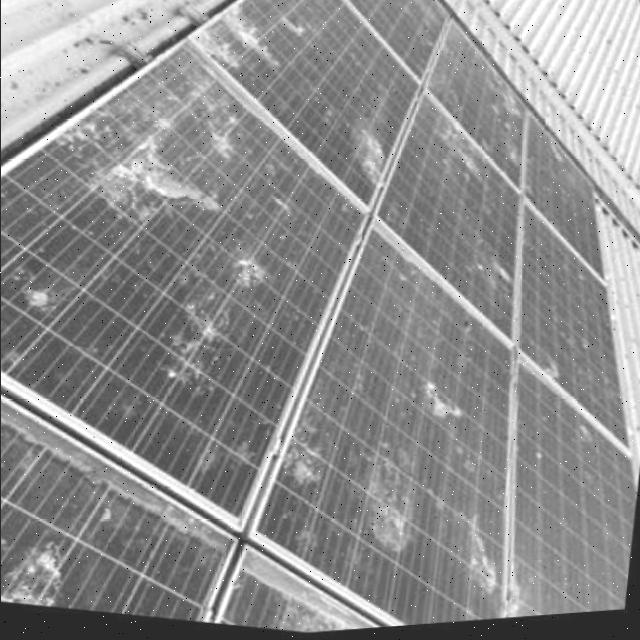Anomaly Solar Panel: (0, 47, 374, 529), (236, 234, 637, 635), (347, 105, 592, 358), (197, 0, 462, 228), (0, 394, 234, 626), (494, 375, 640, 627), (507, 207, 629, 469), (415, 33, 564, 198), (498, 129, 640, 290), (349, 0, 474, 90)
Surface Contaminant: (0, 404, 231, 564), (47, 98, 242, 276), (149, 231, 288, 416), (127, 48, 280, 205), (238, 553, 376, 636), (203, 9, 296, 105), (0, 531, 100, 611), (9, 249, 87, 324), (366, 458, 416, 565), (347, 123, 415, 198), (431, 139, 502, 205), (409, 382, 475, 446), (463, 246, 527, 308), (283, 429, 339, 499), (462, 531, 511, 604), (268, 603, 368, 638), (494, 574, 547, 626)
